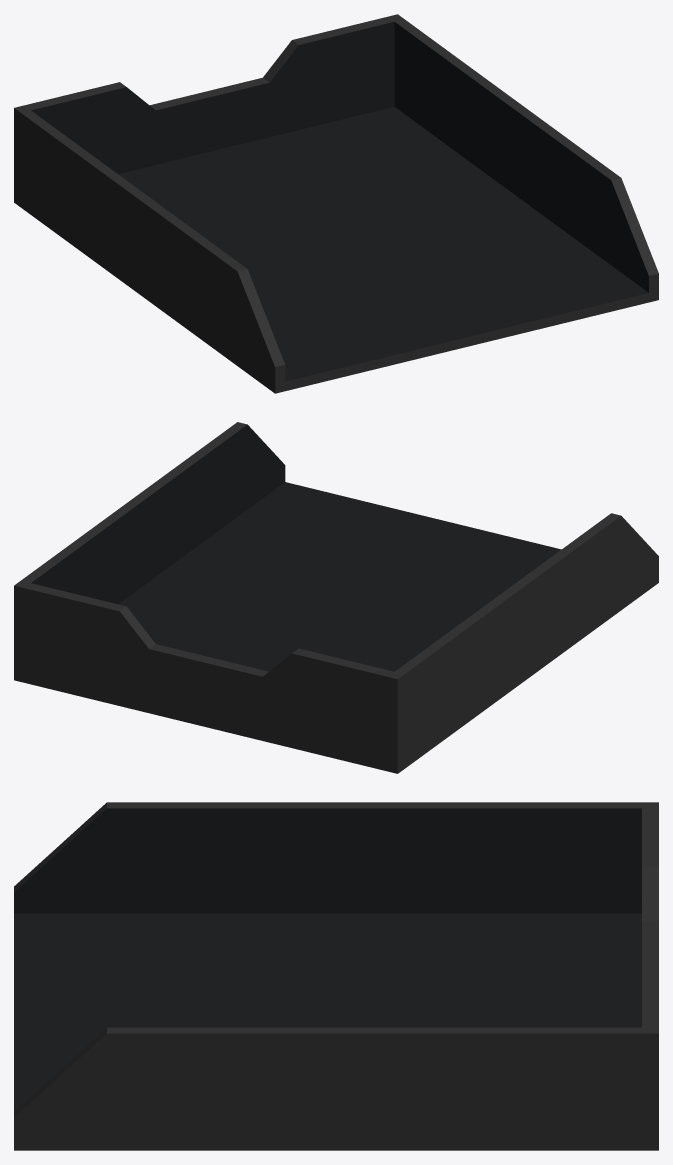
File: Document_Tray_Black.fbx
3 renders of one model, top to bottom at view 1: azimuth 30°, elevation 25°; view 2: azimuth 150°, elevation 25°; view 3: azimuth 270°, elevation 25°, orthographic. The views are drawn at different scales.
Parts seen in each view (by area): view 1: File_Paper_Tray.002; view 2: File_Paper_Tray.002; view 3: File_Paper_Tray.002.
Part boxes in pixels (x1,y1,x2,y2): File_Paper_Tray.002: (14, 14, 658, 393); File_Paper_Tray.002: (14, 422, 658, 773); File_Paper_Tray.002: (14, 802, 658, 1150).
Size of the model in its own units: 28 by 6.6 by 33.
